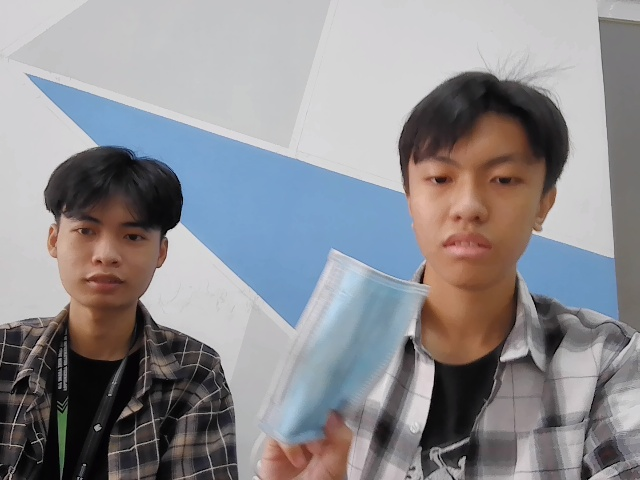human: (395, 67, 568, 286), (44, 147, 188, 314)
mask: (258, 246, 433, 452)
